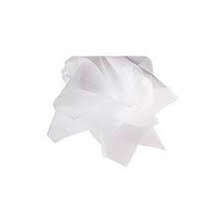tissue: (40, 50, 182, 172)
